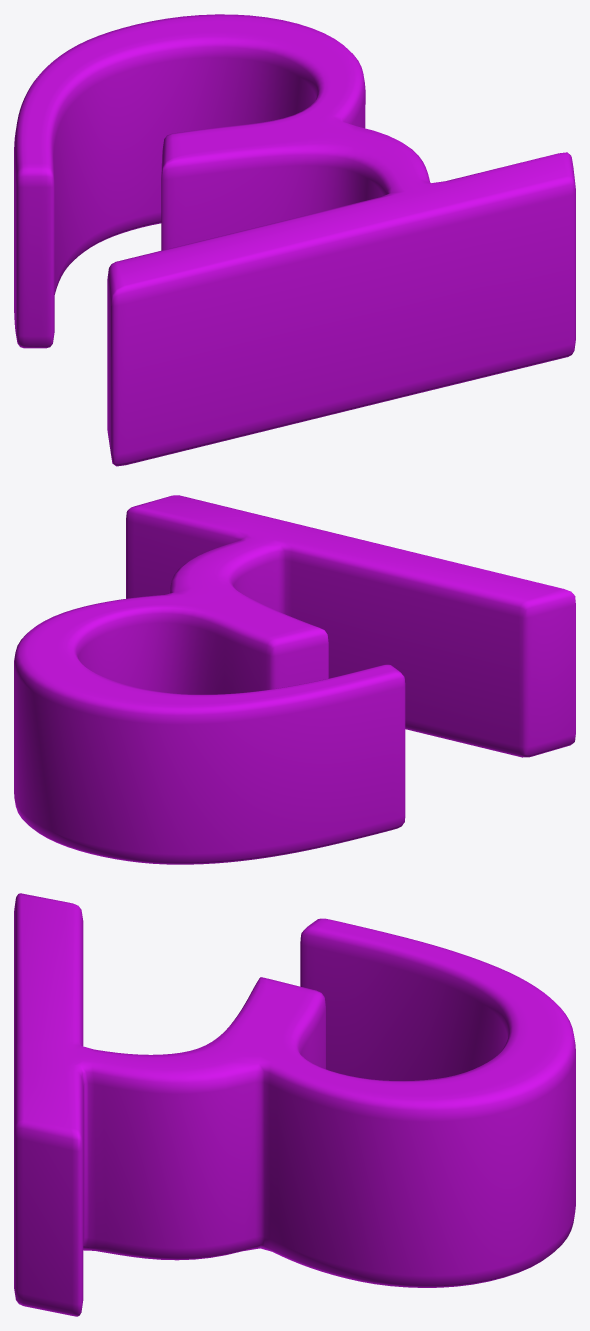
3 views of the same model, one above another, from view 1: azimuth 30°, elevation 25°; view 2: azimuth 150°, elevation 25°; view 3: azimuth 270°, elevation 25° (orthographic). The views are drawn at different scales.
Parts seen in each view (by area): view 1: 3D_Alphabets_Hindi_Language_02.005; view 2: 3D_Alphabets_Hindi_Language_02.005; view 3: 3D_Alphabets_Hindi_Language_02.005.
Boxes of the visible parts, bbox=[...] form: 3D_Alphabets_Hindi_Language_02.005: bbox=[14, 14, 575, 466]; 3D_Alphabets_Hindi_Language_02.005: bbox=[14, 495, 575, 864]; 3D_Alphabets_Hindi_Language_02.005: bbox=[14, 893, 575, 1316].
Size of the model in its own units: 0.6031 by 0.2128 by 0.5811.
